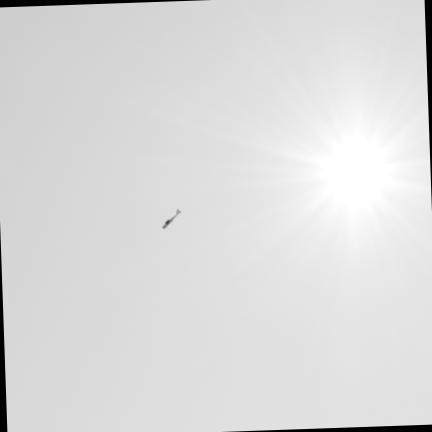Shahed: (162, 209, 180, 228)
